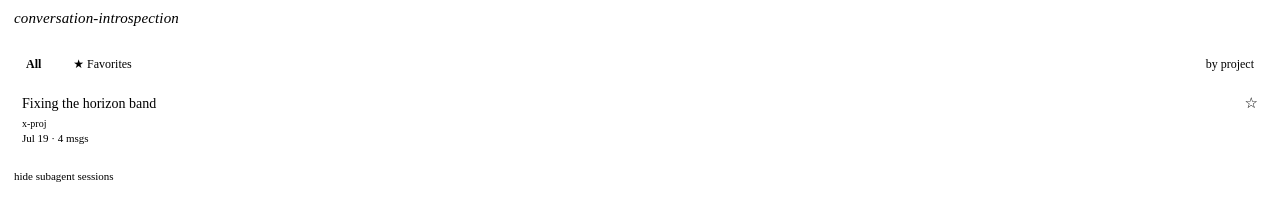
it: subagent reveal toggle › flips the label to "hide subagent sessions" once revealed, and back when clicked again
expect the text "subagent sessions hidden — show" is not shown: met
Click the button "hide subagent sessions": (64, 176) 8,162 -> 1272,190
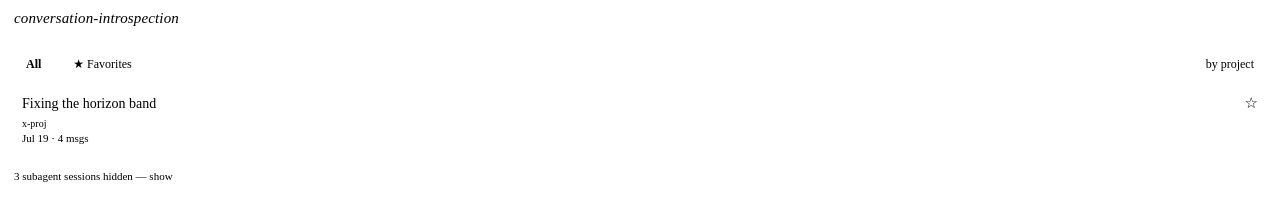
expect the button "3 subagent sessions hidden — show" is shown: met, box 8,162 -> 1272,190
